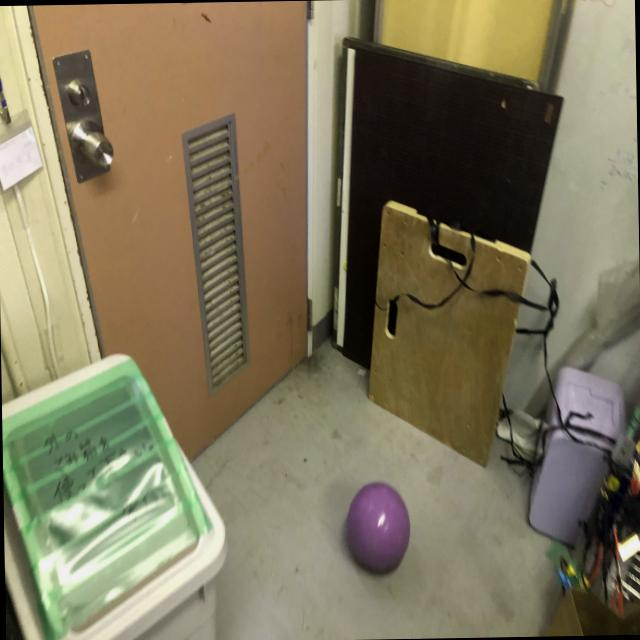purple_ball: (345, 482, 409, 572)
